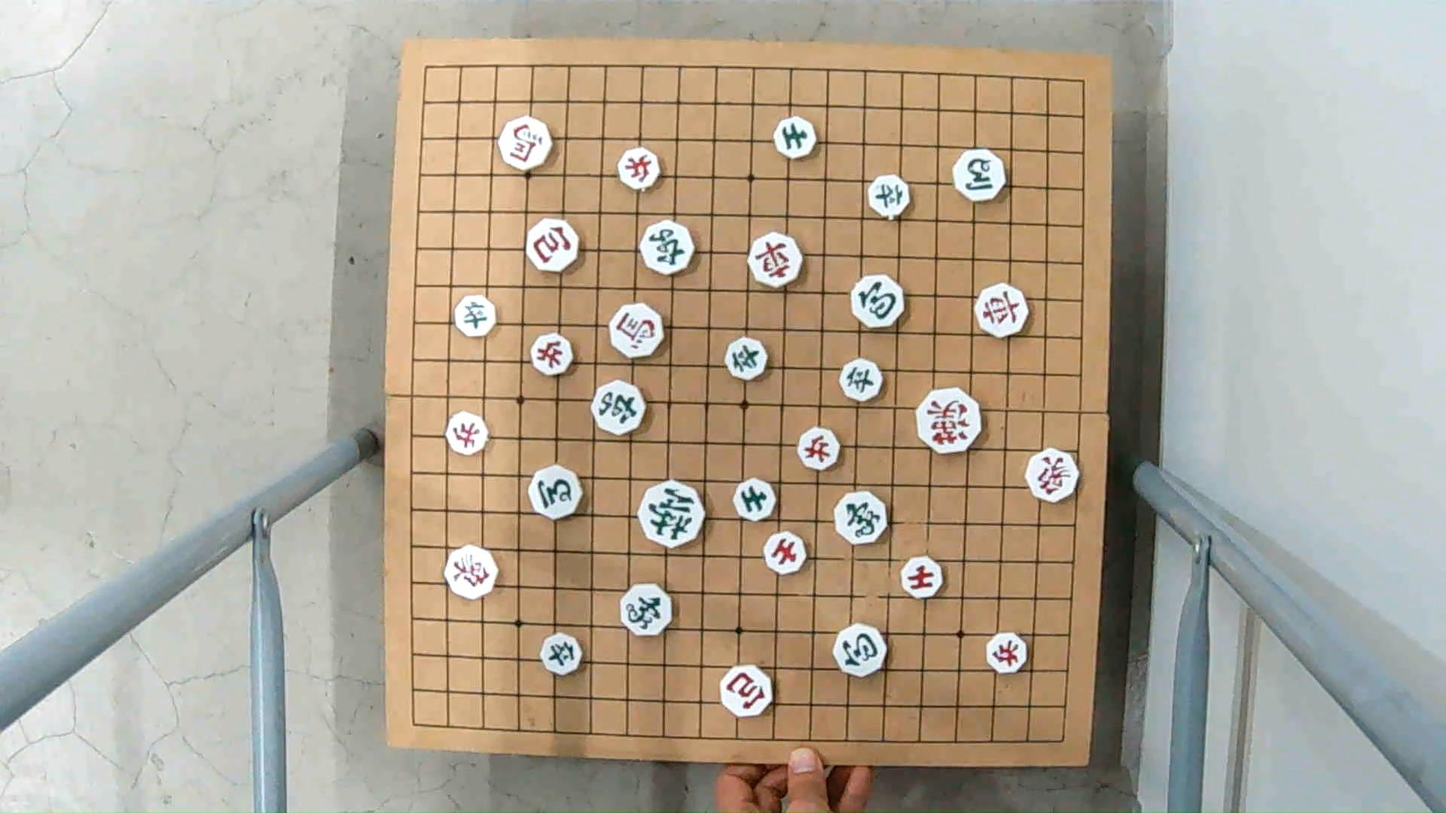cha_green: (639, 222, 697, 272), (592, 383, 648, 433)
cha_red: (972, 284, 1030, 336), (749, 236, 804, 287)
jol_green: (865, 175, 912, 216), (839, 361, 886, 400), (724, 340, 769, 380), (540, 635, 584, 674), (453, 298, 499, 335)
jol_red: (444, 411, 487, 454), (529, 334, 573, 376), (616, 148, 662, 188), (986, 633, 1027, 673), (799, 428, 839, 467)
ma_green: (526, 469, 587, 519), (955, 150, 1011, 202)
ma_red: (610, 304, 662, 357), (499, 120, 552, 168)
po_green: (850, 279, 905, 329), (831, 626, 887, 673)
po_red: (719, 667, 775, 717), (525, 222, 581, 271)
sa_green: (734, 480, 780, 521), (773, 118, 819, 158)
sa_red: (764, 534, 810, 574), (898, 558, 944, 598)
sang_green: (618, 583, 673, 635), (835, 495, 889, 542)
sang_red: (444, 546, 498, 601), (1024, 452, 1081, 501)
wang_green: (636, 483, 706, 543)
wang_red: (917, 391, 978, 451)
